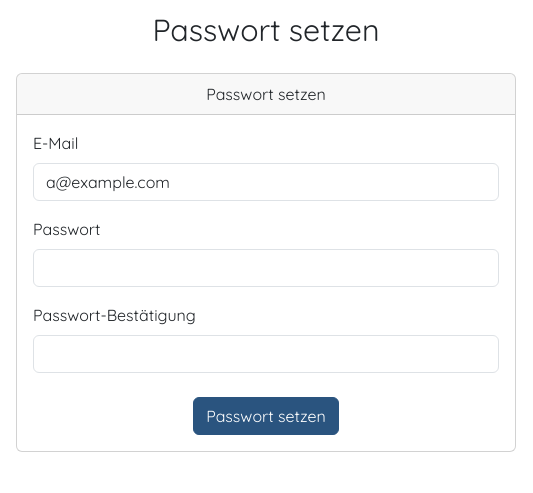
Test: ResetPasswordView › shows the invalid-token error message under the email field
In the password field labelled "Passwort": (266, 268) [33,248,499,286], type "Passw0rd1"
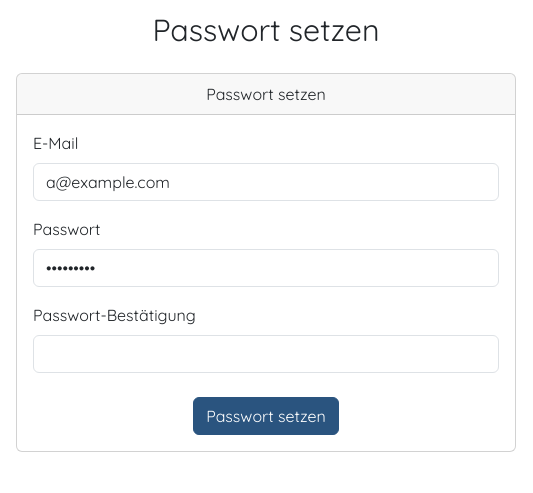
In the password field labelled "Passwort-Bestätigung": (266, 354) [33,334,499,372], type "Passw0rd1"
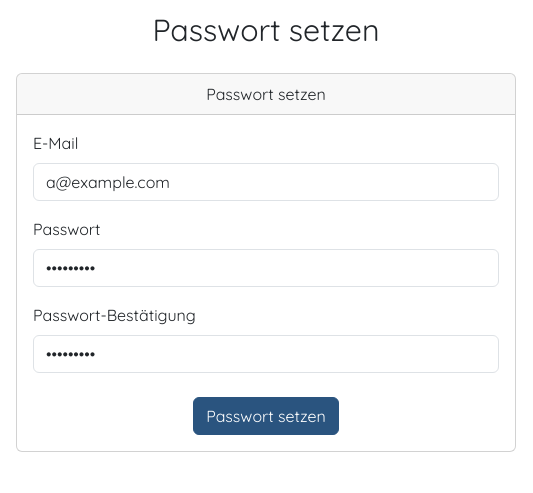
Submit the form, box [33,130,499,434]
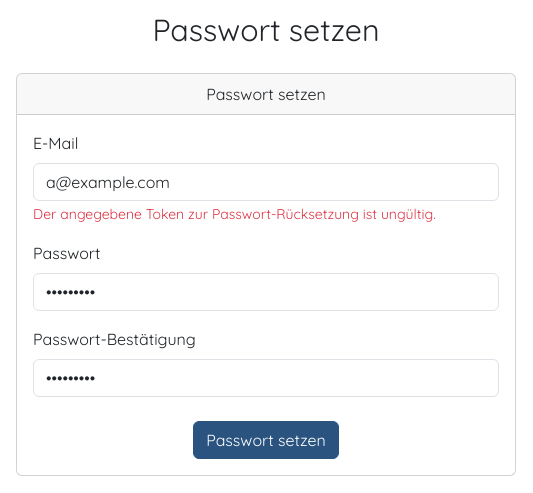
Expected: the text "Der angegebene Token zur Passwort-Rücksetzung ist ungültig." is shown, [33,204,436,222]
